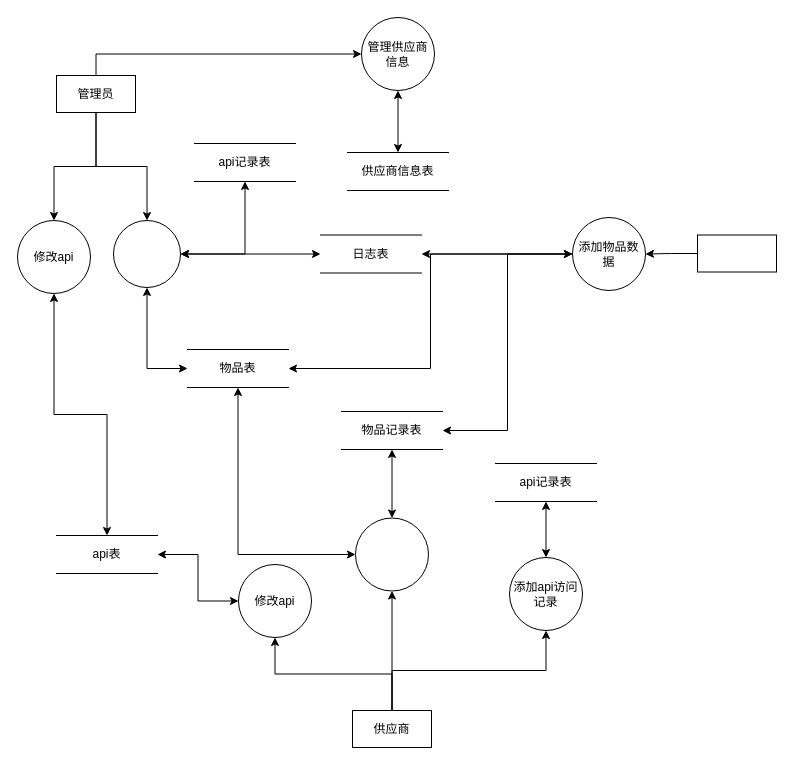
This 794x765 diagram has some shape labels left out. Here are the shapes that lost their labels. From the top down, the box of each, then its label:
(112, 220, 180, 288): 查看系统统计数据
(696, 234, 776, 272): 员工
(354, 517, 428, 591): 查看物品数据
